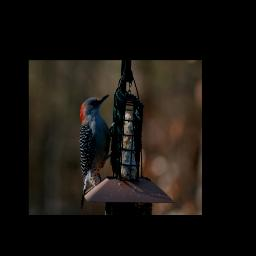Woodpecker: (79, 92, 117, 210)
